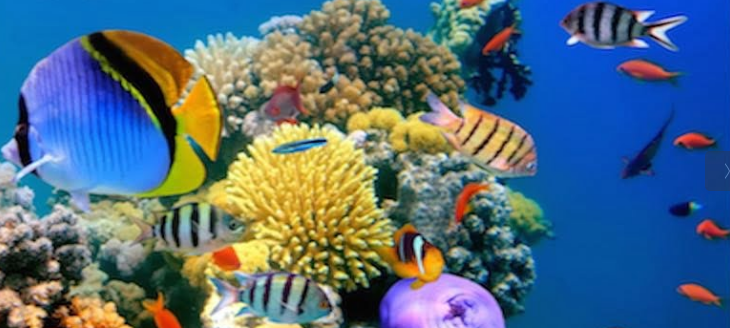fishRound: (2, 25, 223, 215), (420, 89, 537, 183), (206, 268, 333, 327), (128, 196, 248, 258), (558, 2, 688, 52)
fishSmall: (263, 78, 314, 126), (614, 58, 684, 90), (454, 179, 492, 223), (141, 291, 181, 328), (674, 282, 727, 308), (483, 23, 521, 57), (672, 128, 720, 154), (693, 219, 730, 241), (668, 198, 707, 218)
